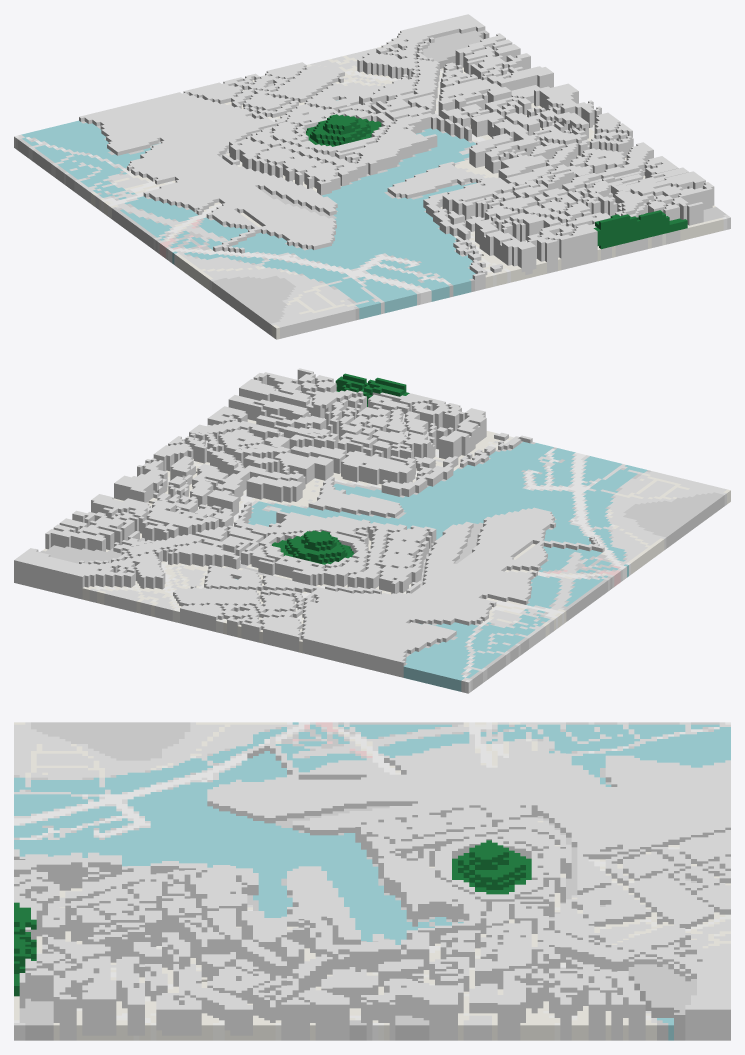
The model's file is 200607 macau ver2-3.obj.
3 renders of one model, top to bottom at view 1: azimuth 30°, elevation 25°; view 2: azimuth 150°, elevation 25°; view 3: azimuth 270°, elevation 25°, orthographic. The views are drawn at different scales.
Size of the model in its own units: 12.6 by 1 by 12.6.
Materials: 1 (1 with a texture image).
